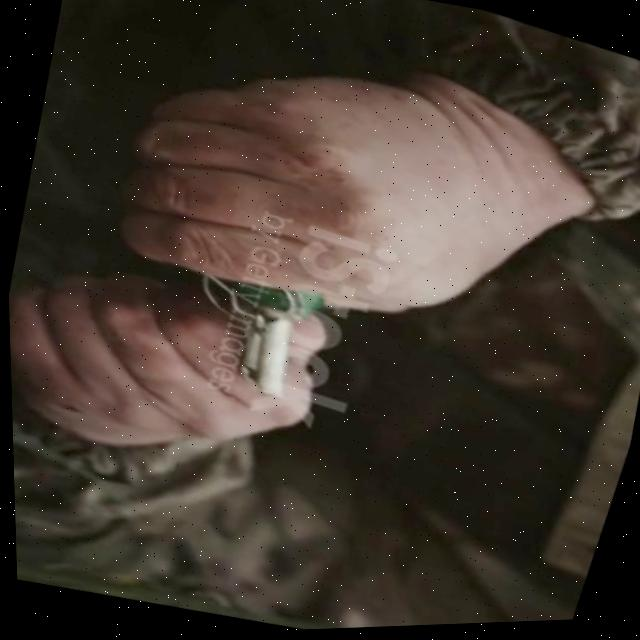grenade: (175, 255, 359, 421)
